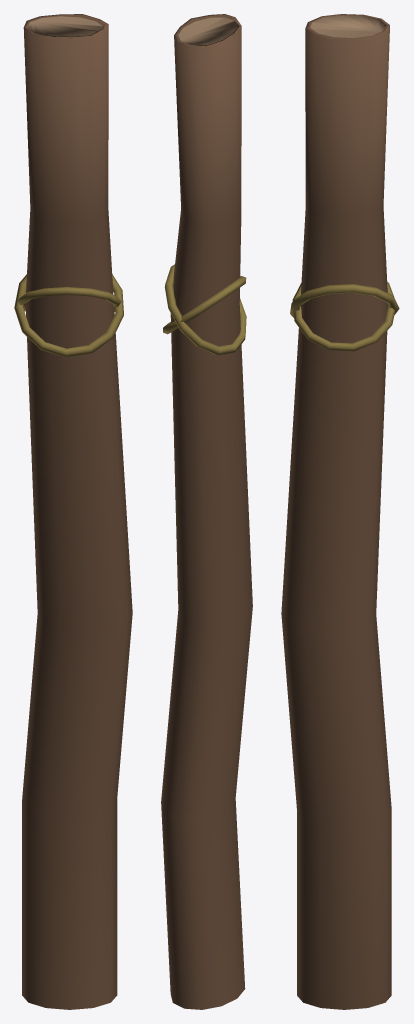
Rendered from waterwallpost.fbx.
3 renders of one model, left to right at view 1: azimuth 90°, elevation 25°; view 2: azimuth 150°, elevation 25°; view 3: azimuth 270°, elevation 25°, orthographic.
Parts seen in each view (by area): view 1: Cube.001; view 2: Cube.001; view 3: Cube.001.
Part boxes in pixels (<box>): Cube.001: <box>14,14,132,1009</box>; Cube.001: <box>161,14,252,1009</box>; Cube.001: <box>281,14,399,1009</box>.
Size of the model in its own units: 0.2433 by 3.23 by 0.3566.
